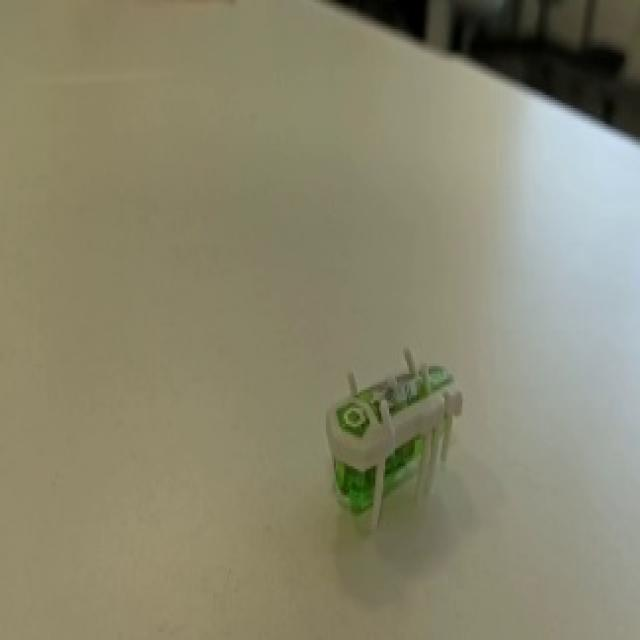4_NanoBug_Blanco: (300, 350, 504, 553)
